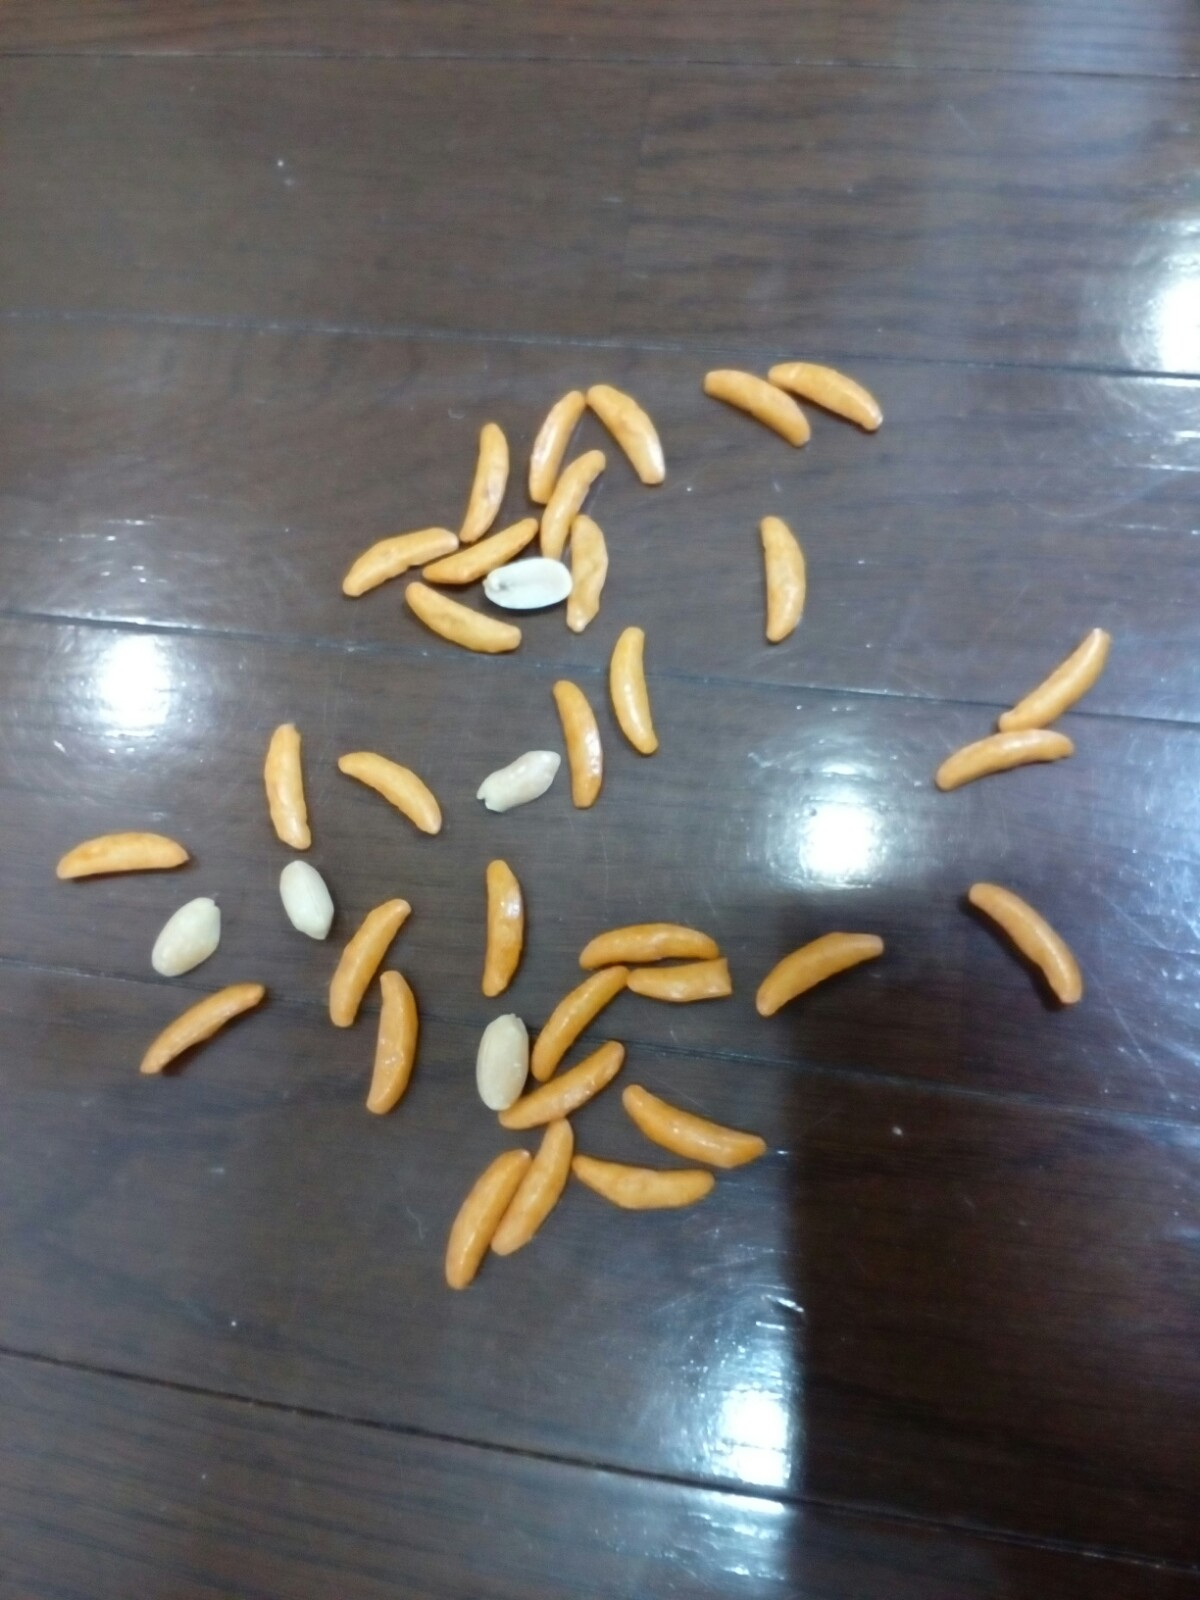peanut: (139, 884, 228, 978), (469, 740, 568, 819), (482, 546, 592, 616), (469, 1002, 531, 1125), (279, 857, 342, 946)
